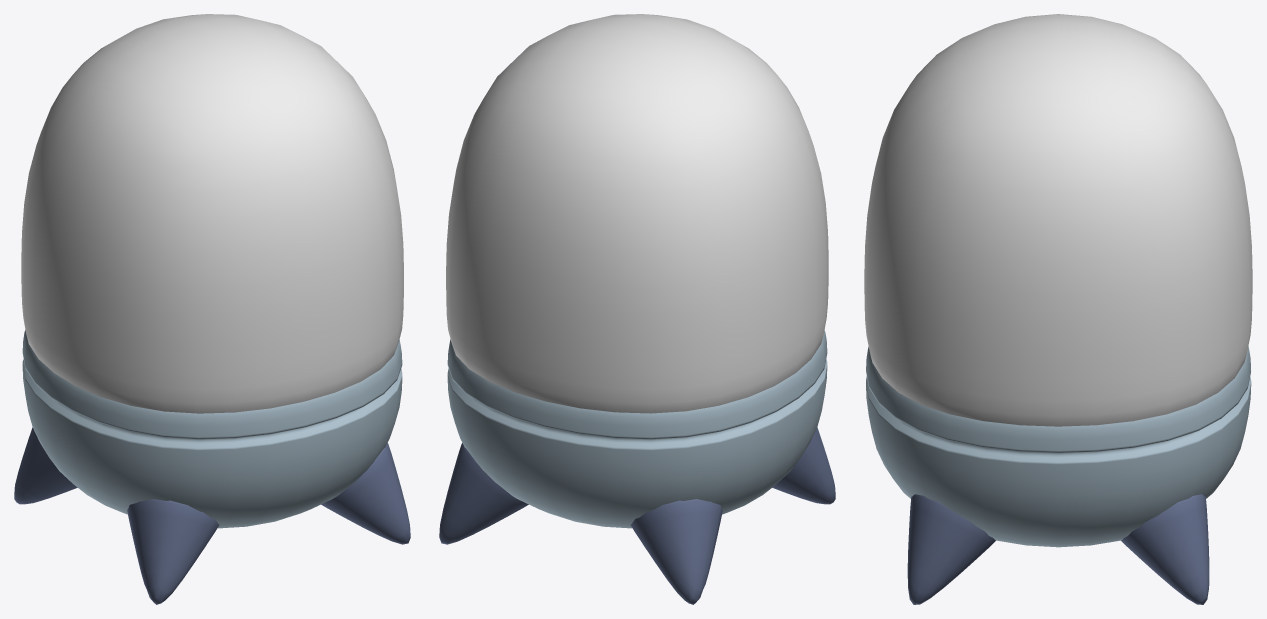
Rendered from npcAnim2.fbx.
3 renders of one model, left to right at view 1: azimuth 30°, elevation 25°; view 2: azimuth 150°, elevation 25°; view 3: azimuth 270°, elevation 25°, orthographic. The views are drawn at different scales.
Parts seen in each view (by area): view 1: Cube.004, Cube, Cube.003; view 2: Cube.004, Cube, Cube.003; view 3: Cube.004, Cube, Cube.003.
Part boxes in pixels (x1,y1,x2,y2): Cube.004: (21, 14, 403, 413); Cube: (22, 330, 402, 528); Cube.003: (14, 427, 410, 604); Cube.004: (446, 14, 828, 413); Cube: (447, 330, 827, 528); Cube.003: (439, 427, 835, 604); Cube.004: (864, 14, 1252, 426); Cube: (866, 346, 1251, 547); Cube.003: (907, 494, 1209, 604).
Size of the model in its own units: 210 by 303 by 210.
